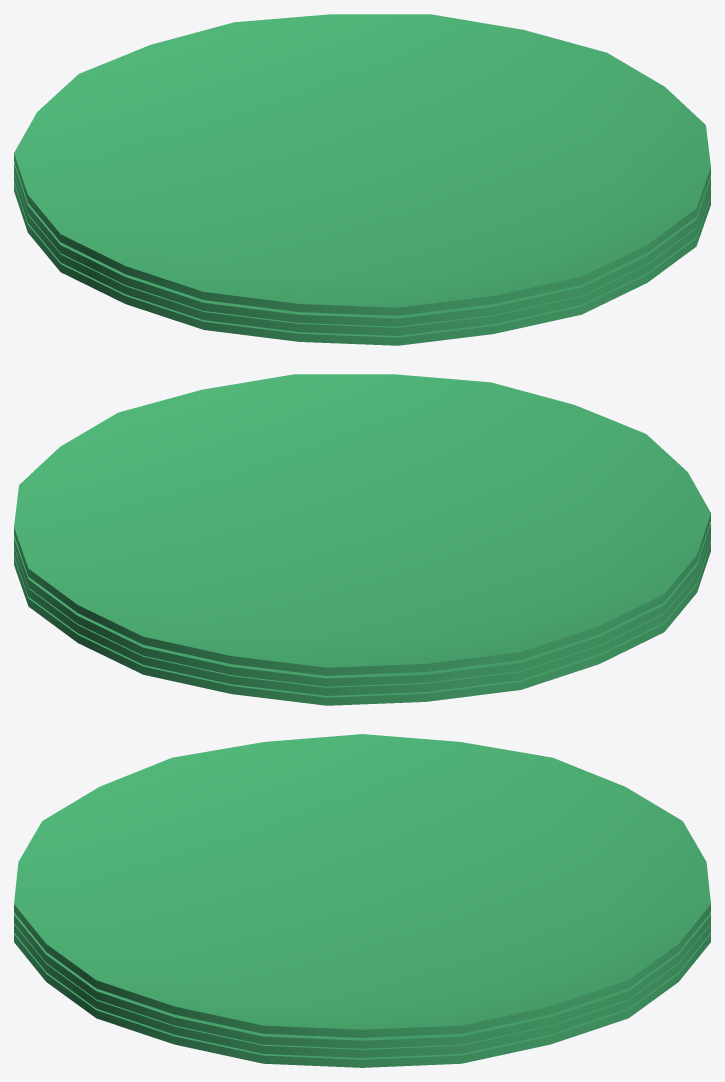
File: plate_2.fbx
3 views of the same model, one above another, from view 1: azimuth 30°, elevation 25°; view 2: azimuth 150°, elevation 25°; view 3: azimuth 270°, elevation 25° (orthographic).
Parts seen in each view (by area): view 1: plate; view 2: plate; view 3: plate.
Part boxes in pixels (box(x1,y1,x2,y2)): plate: box(14, 14, 710, 345); plate: box(14, 374, 710, 705); plate: box(14, 734, 710, 1067).
Size of the model in its own units: 0.4583 by 0.0455 by 0.4566.
